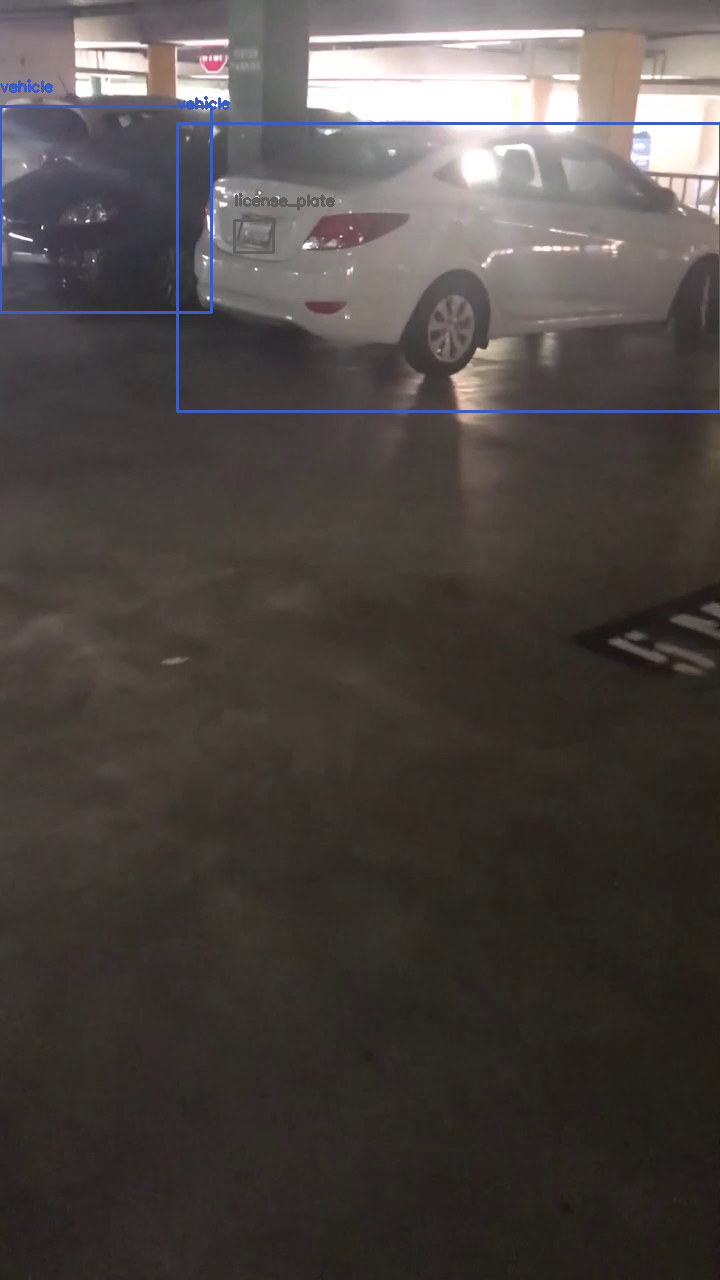license_plate: (234, 220, 273, 252)
vehicle: (177, 123, 720, 411), (0, 106, 211, 312)
